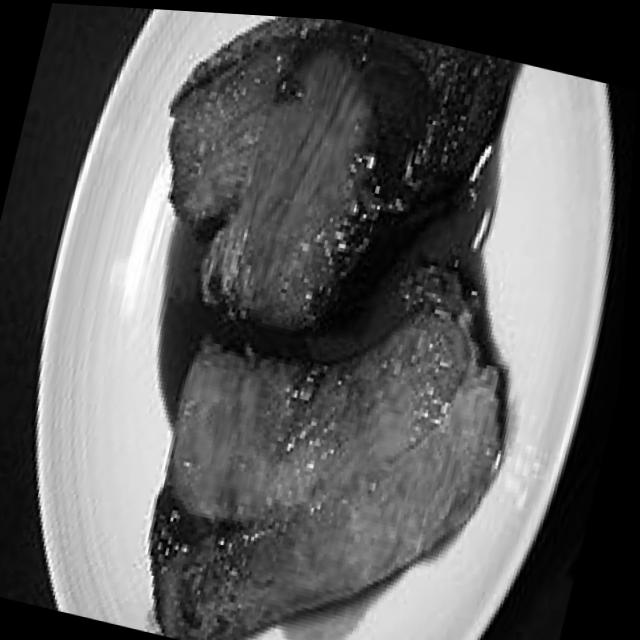熟制海鲜: (34, 3, 608, 640)
